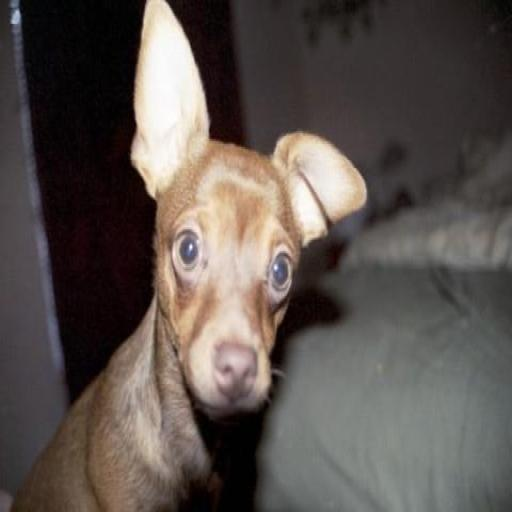dog_face: (116, 1, 352, 418)
